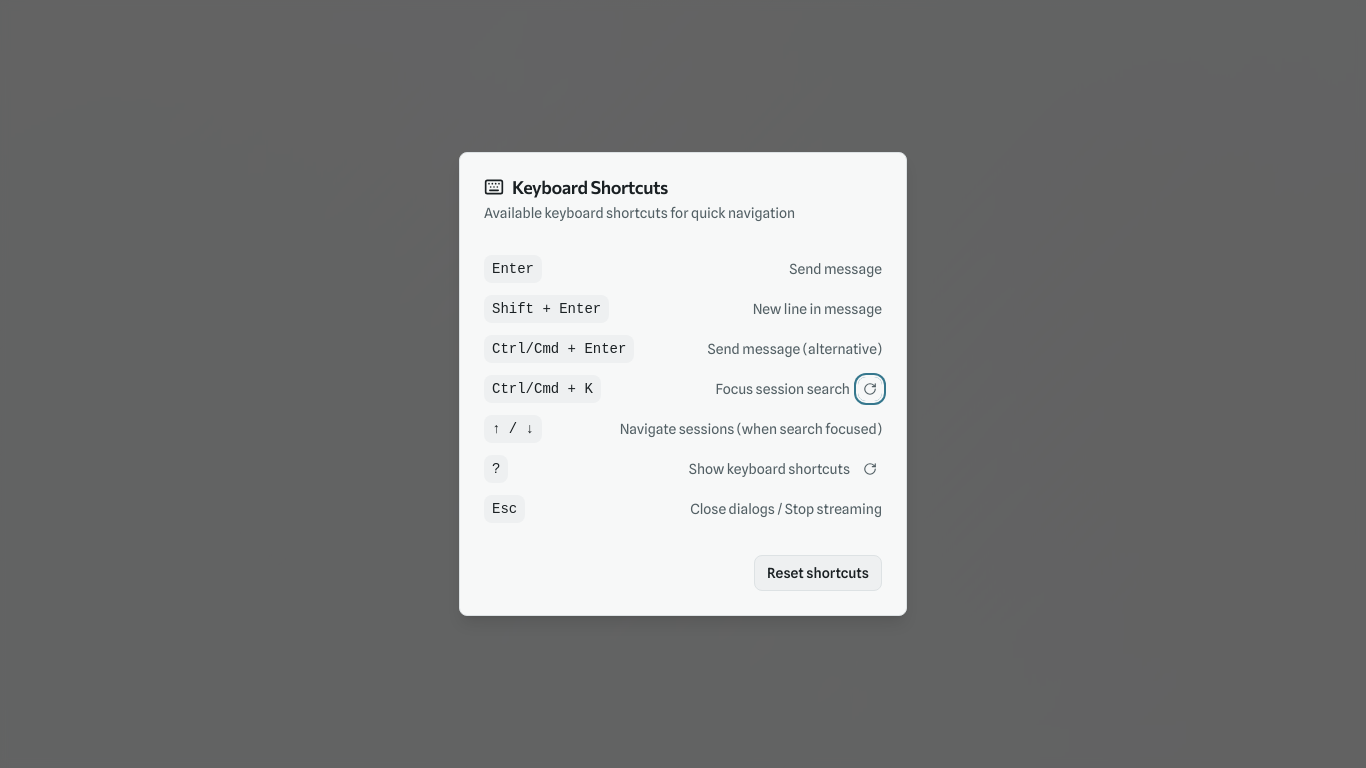
Scenario: KeyboardShortcuts capture lifecycle + conflicts (PRR-001/PRR-003) › PRR-001: closing the dialog mid-capture disarms the capture listener
Click the button named "rebind shortcut: show keyboard shortcuts" at (870, 469), box left=858, top=457, right=882, bottom=481
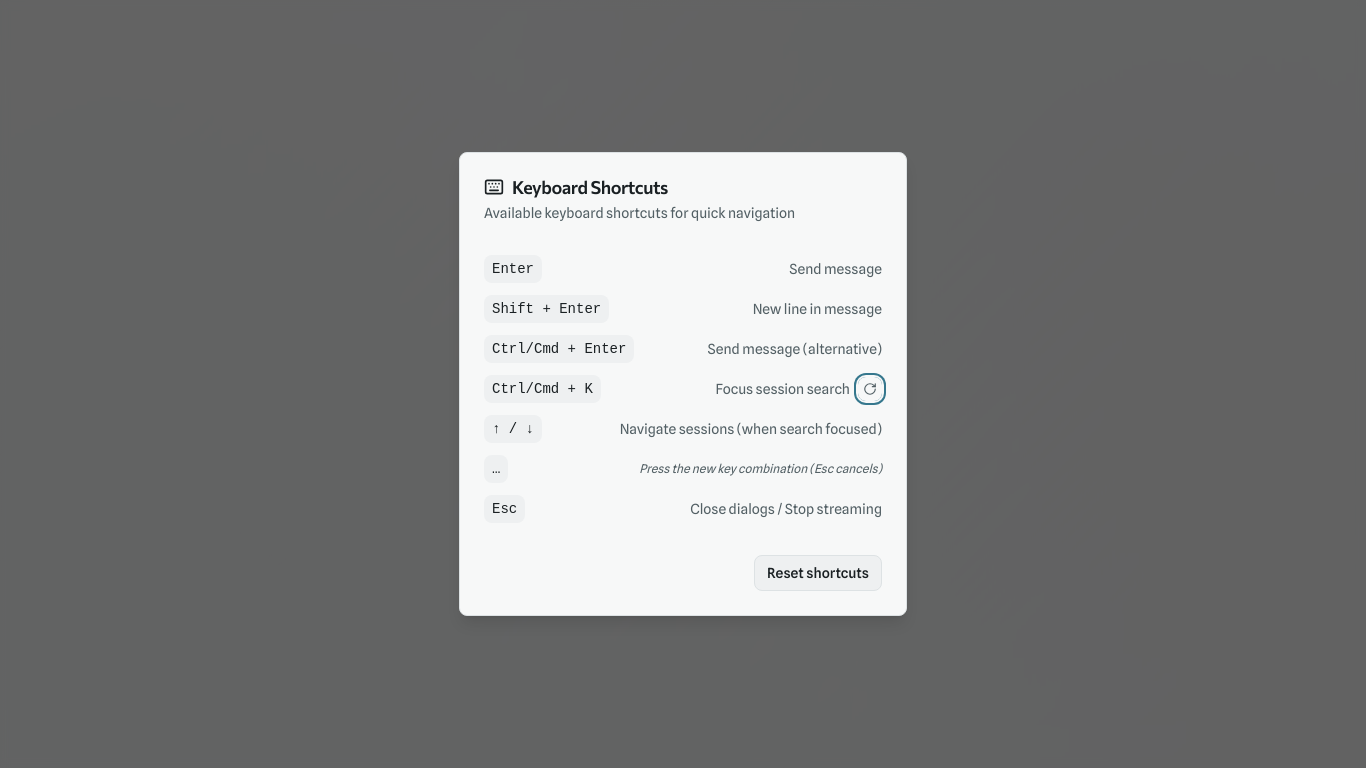
Expected: the message "Press the new key combination (Esc cancels)" is shown, left=639, top=461, right=882, bottom=477
